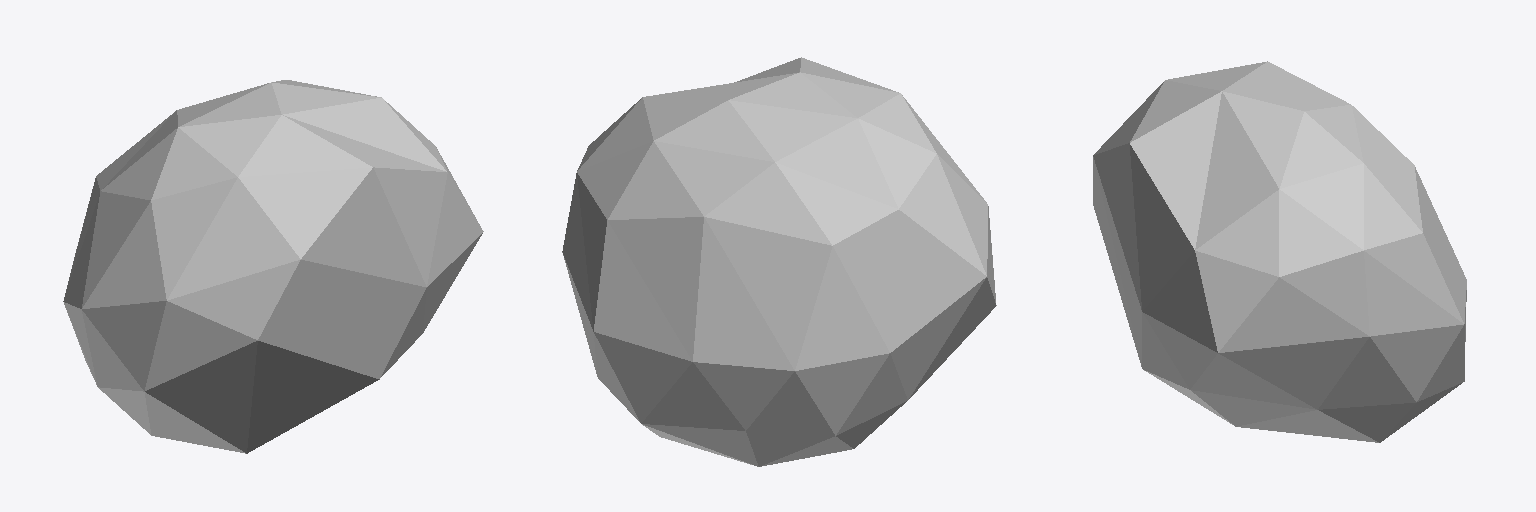
File: boulder.obj
The picture shows the model from 3 angles: view 1: azimuth 30°, elevation 25°; view 2: azimuth 150°, elevation 25°; view 3: azimuth 270°, elevation 25°; orthographic projection.
Parts seen in each view (by area): view 1: Icosphere; view 2: Icosphere; view 3: Icosphere.
Part boxes in pixels (left/top/right/bottom): Icosphere: left=63, top=80, right=483, bottom=453; Icosphere: left=562, top=57, right=996, bottom=466; Icosphere: left=1093, top=61, right=1466, bottom=442.
Bounding box in the file's own units: 2.69 × 2.13 × 2.22.